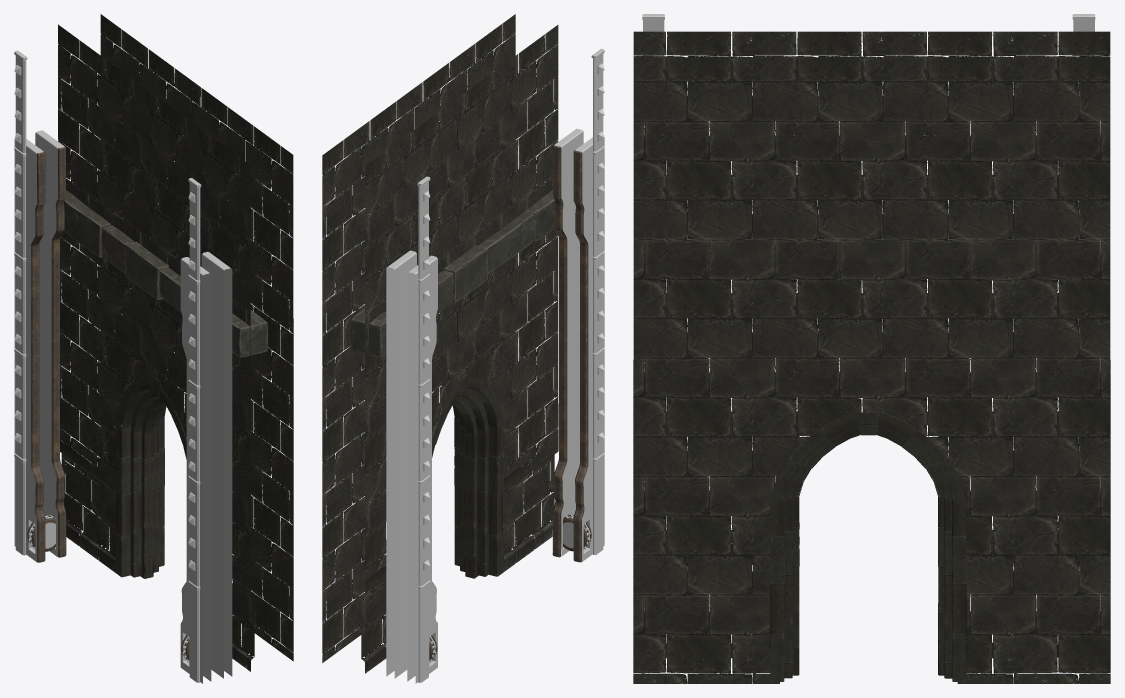
3 views of the same model, side by side, from view 1: azimuth 30°, elevation 25°; view 2: azimuth 150°, elevation 25°; view 3: azimuth 270°, elevation 25° (orthographic). The views are drawn at different scales.
Parts seen in each view (by area): view 1: SM_DR_Gateway_Middle_Lower_01_LOD0; view 2: SM_DR_Gateway_Middle_Lower_01_LOD0; view 3: SM_DR_Gateway_Middle_Lower_01_LOD0.
Boxes of the visible parts, <box> form: SM_DR_Gateway_Middle_Lower_01_LOD0: <box>14,14,293,683</box>; SM_DR_Gateway_Middle_Lower_01_LOD0: <box>322,14,604,683</box>; SM_DR_Gateway_Middle_Lower_01_LOD0: <box>633,14,1110,683</box>.
Size of the model in its own units: 2.67 by 13.35 by 9.19.
